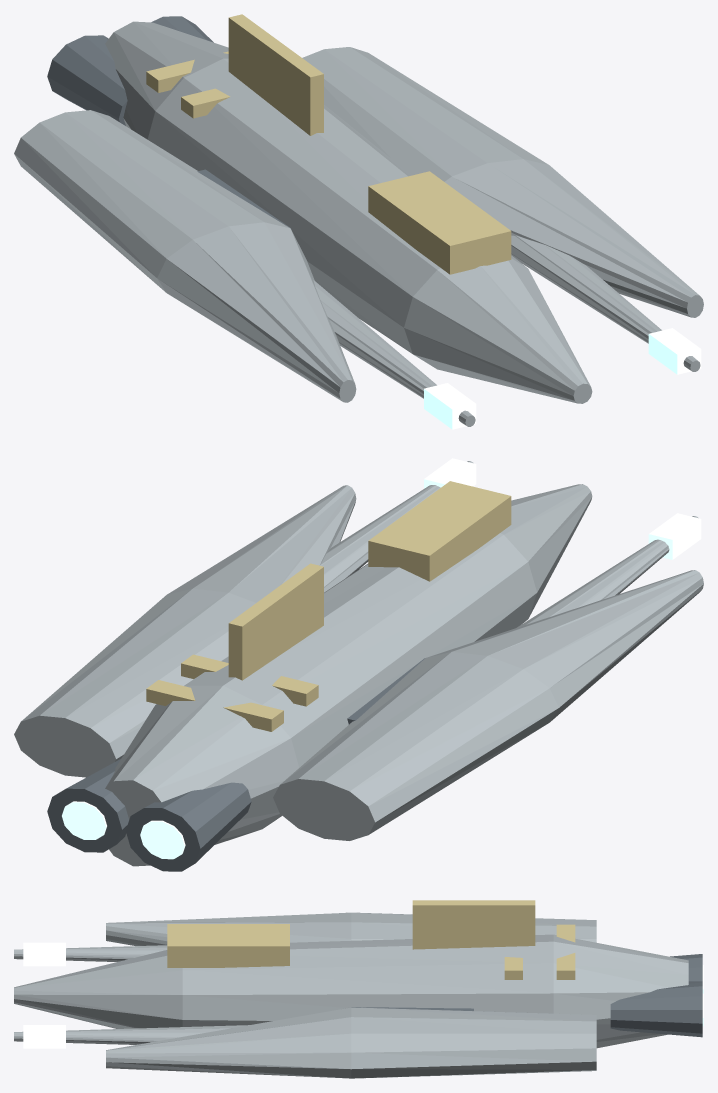
3 renders of one model, top to bottom at view 1: azimuth 30°, elevation 25°; view 2: azimuth 150°, elevation 25°; view 3: azimuth 270°, elevation 25°, orthographic. The views are drawn at different scales.
Bounding box in the file's own units: 2.43 × 1.13 × 4.82.
